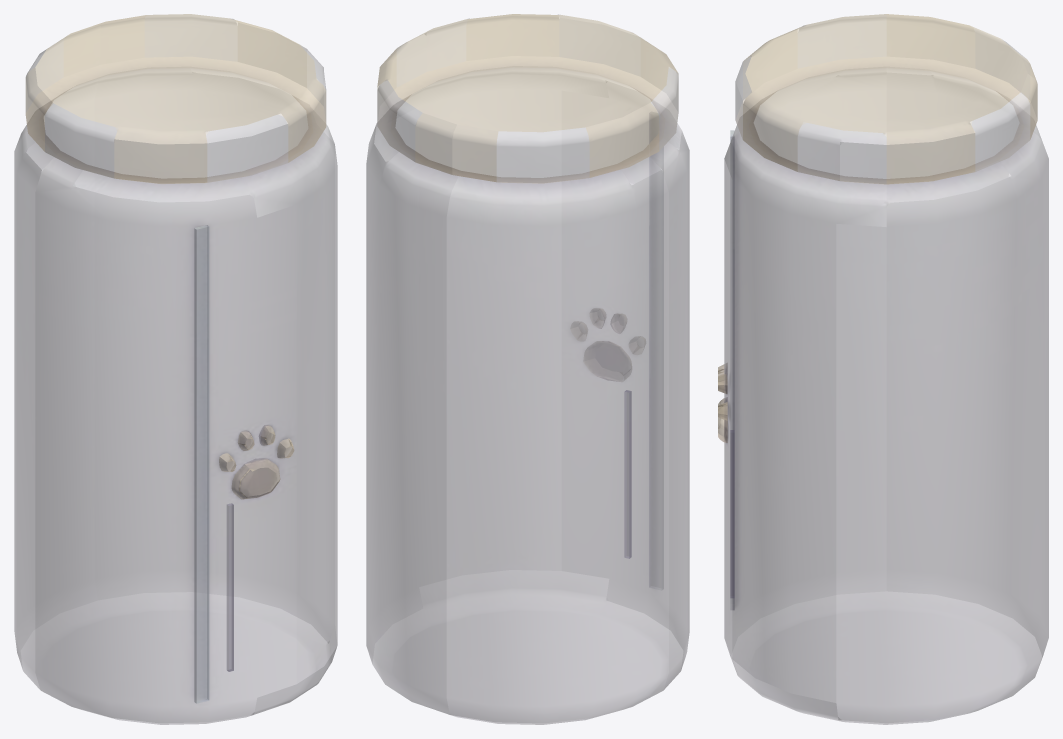
Rendered from kavanoz2.glb.
3 views of the same model, side by side, from view 1: azimuth 30°, elevation 25°; view 2: azimuth 150°, elevation 25°; view 3: azimuth 270°, elevation 25° (orthographic).
Parts seen in each view (by area): view 1: kavanoz2; view 2: kavanoz2; view 3: kavanoz2.
Boxes of the visible parts, left/top/right/bottom form: kavanoz2: left=14, top=14, right=337, bottom=724; kavanoz2: left=366, top=14, right=689, bottom=724; kavanoz2: left=718, top=14, right=1048, bottom=724.
Bounding box in the file's own units: 1.53 × 3.1 × 1.56.
1 material, 1 textured.
